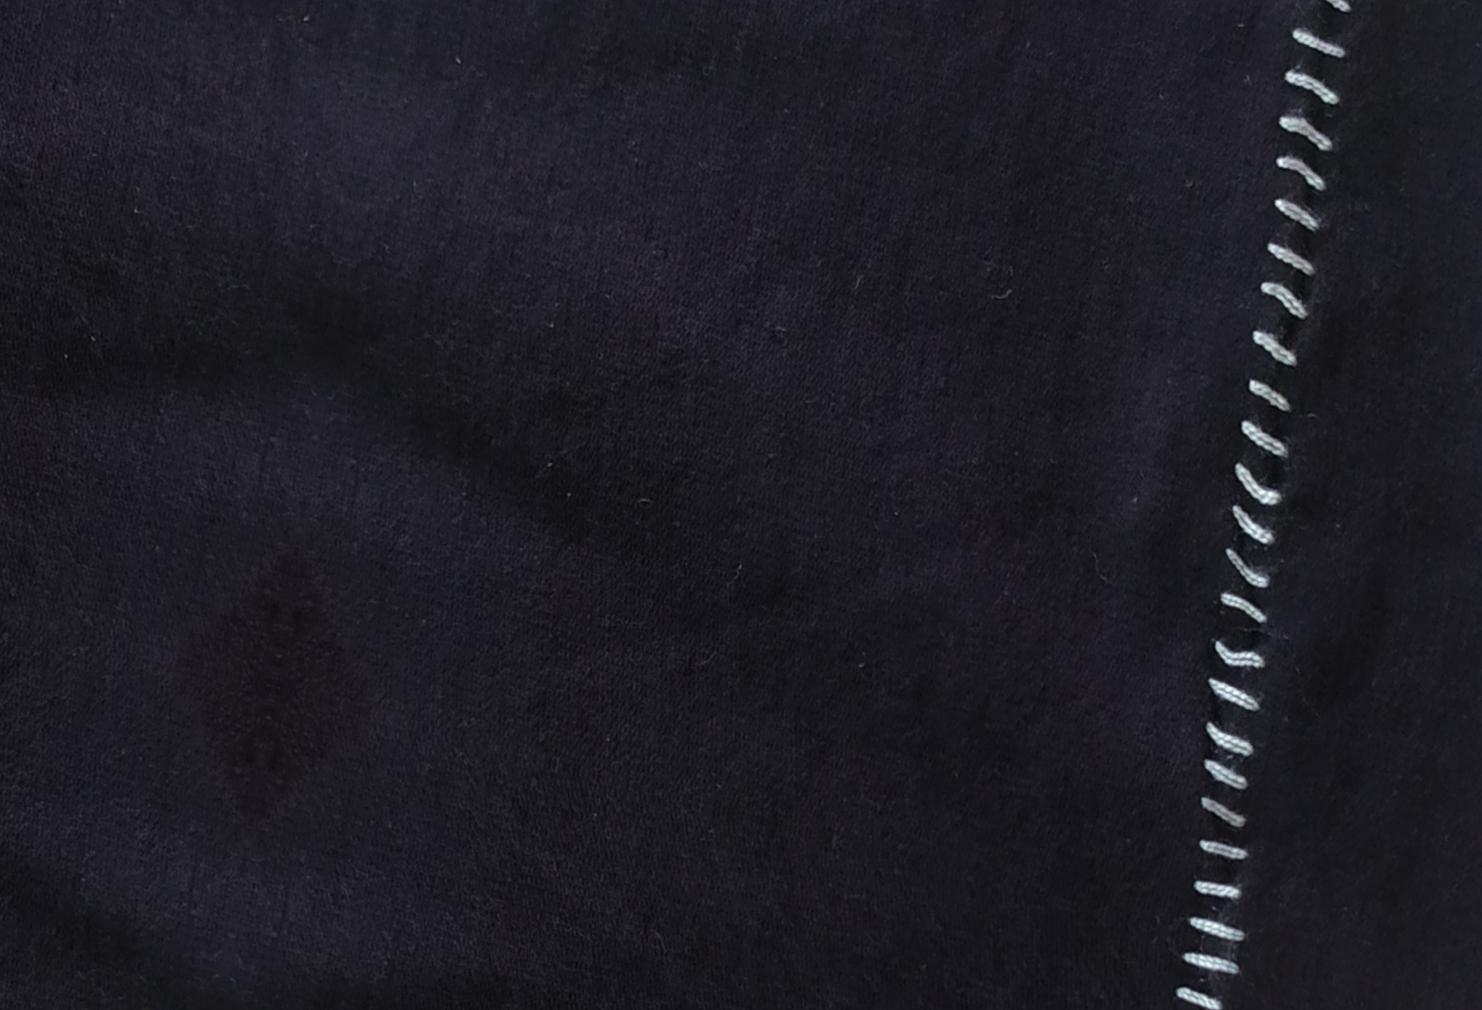slub: (1170, 1, 1362, 1010)
